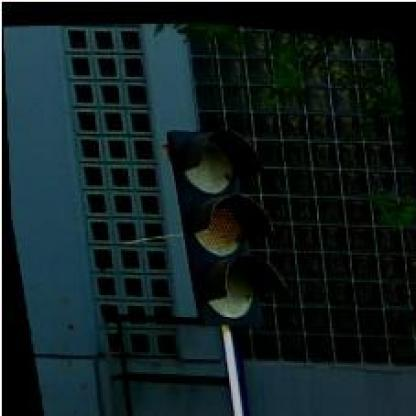yellow: (163, 114, 284, 330)
